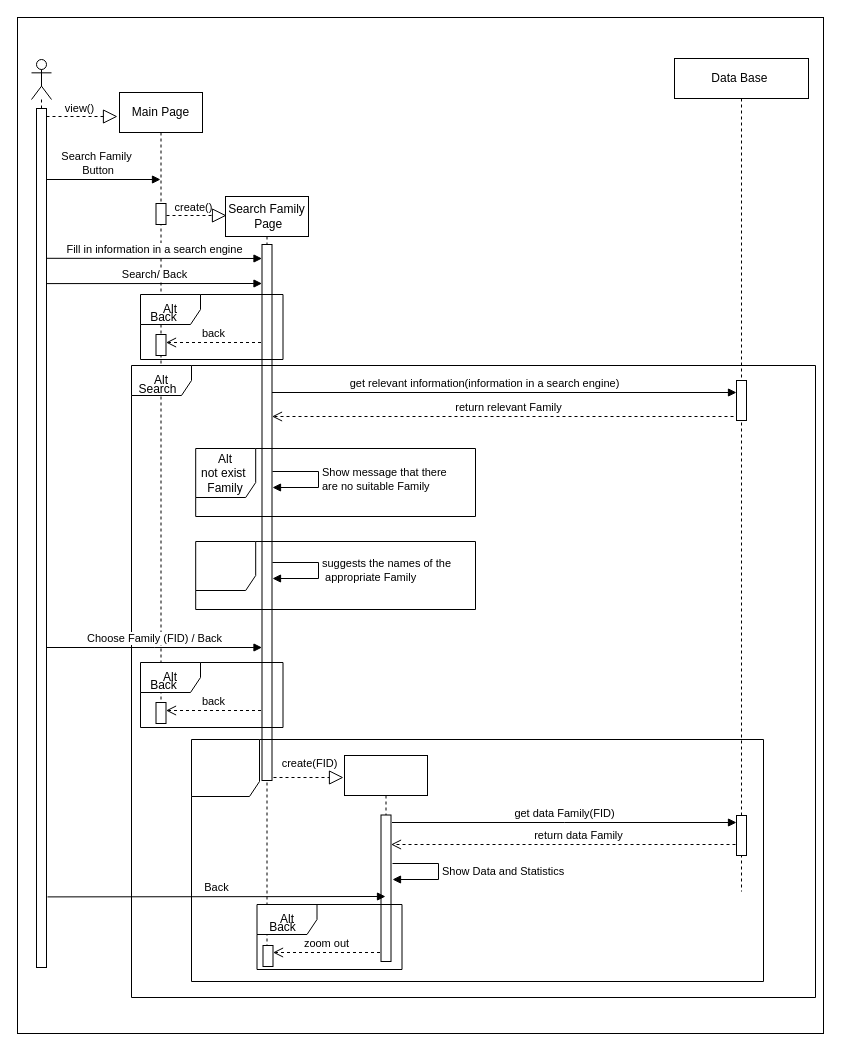
The diagram is 841 pixels wide and 1051 high, and some of its shapes have lost their labels. Each missing label, with the box of its shape:
Alt choose Family: (190, 738, 764, 982)
Alt exist Family: (195, 540, 476, 610)
Family Statistics page: (344, 754, 428, 958)
user: (30, 58, 52, 958)
